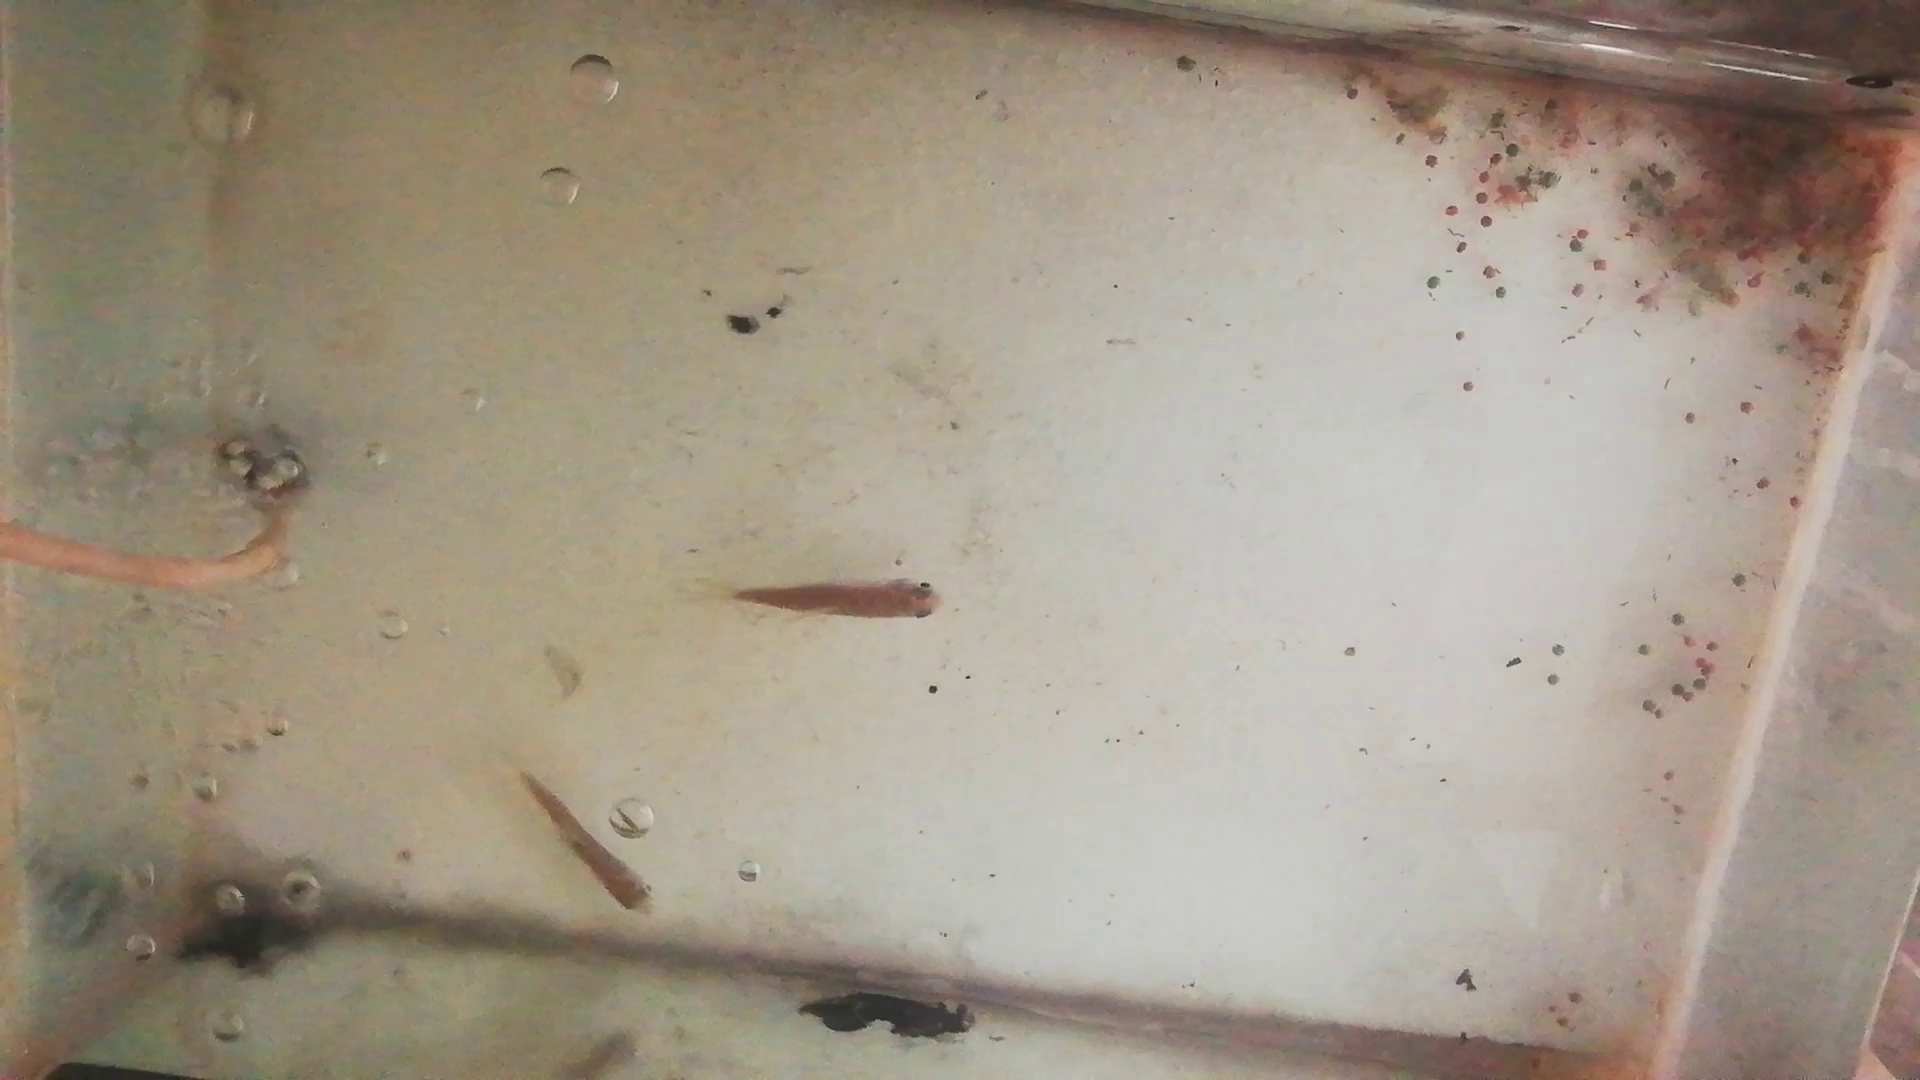fish: (516, 769, 657, 914), (738, 574, 944, 626)
